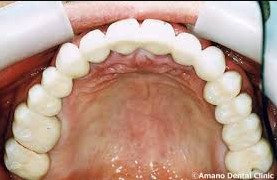UL1BC_healthy: (205, 75, 240, 101)
UL1M_healthy: (222, 119, 263, 148)
UL2BC_healthy: (215, 101, 251, 121)
UL2M_healthy: (227, 148, 272, 175)
ULCI_healthy: (141, 18, 174, 55)
ULC_healthy: (198, 47, 225, 81)
ULLI_healthy: (174, 32, 200, 66)
UR1BC_healthy: (42, 70, 73, 97)
UR1M_healthy: (14, 107, 60, 151)
UR2BC_healthy: (29, 86, 63, 117)
UR2M_healthy: (4, 140, 52, 180)
URCI_healthy: (106, 19, 140, 56)
URC_healthy: (57, 43, 89, 78)
URLI_healthy: (79, 30, 109, 62)
